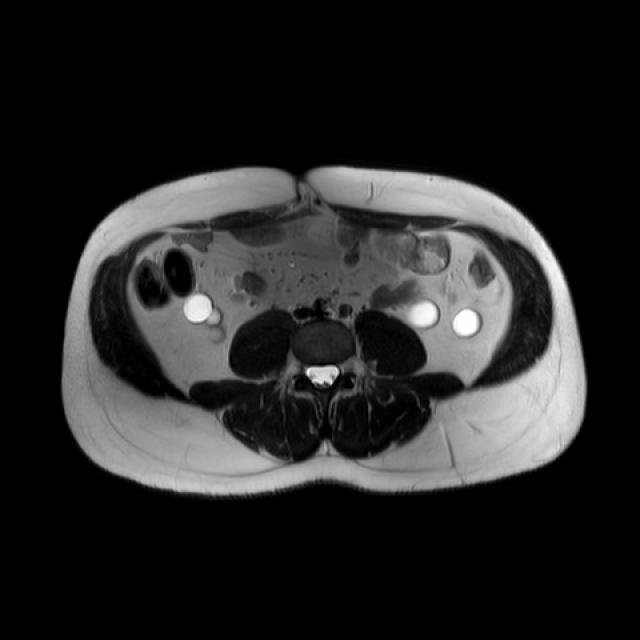sag: (182, 291, 231, 346)
sol: (405, 300, 441, 331), (452, 310, 482, 341)
